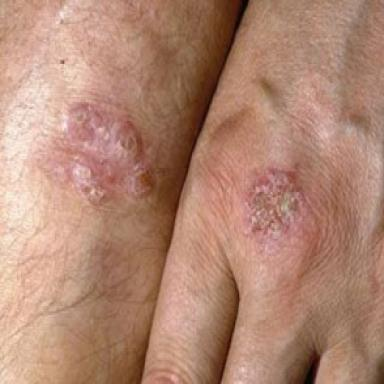eczema: (38, 103, 158, 204), (241, 164, 303, 244)
